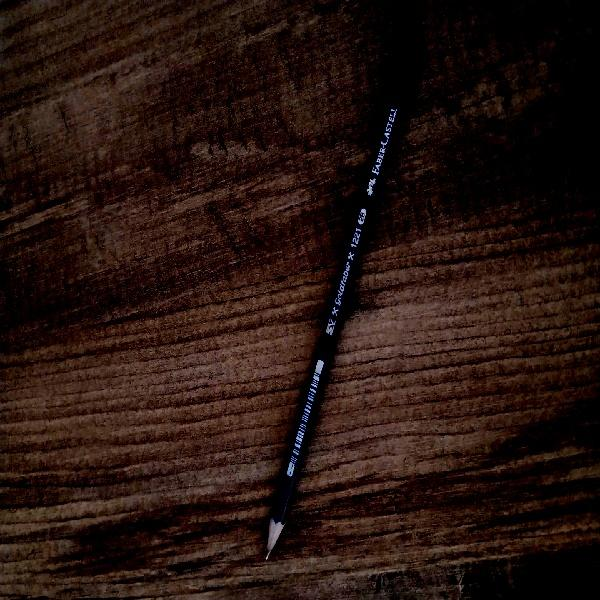pencil: (251, 93, 417, 560)
